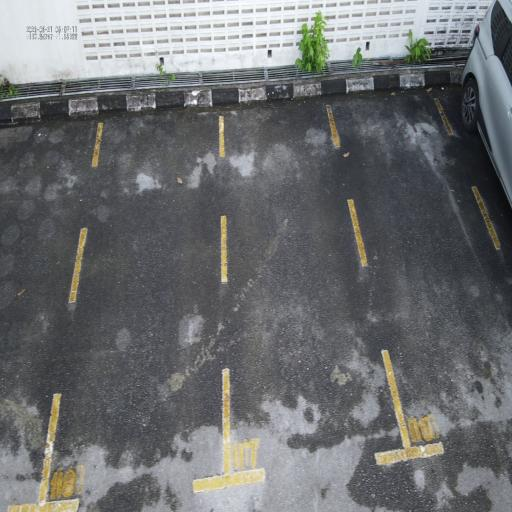Empty: (35, 94, 236, 512), (214, 98, 415, 496)
